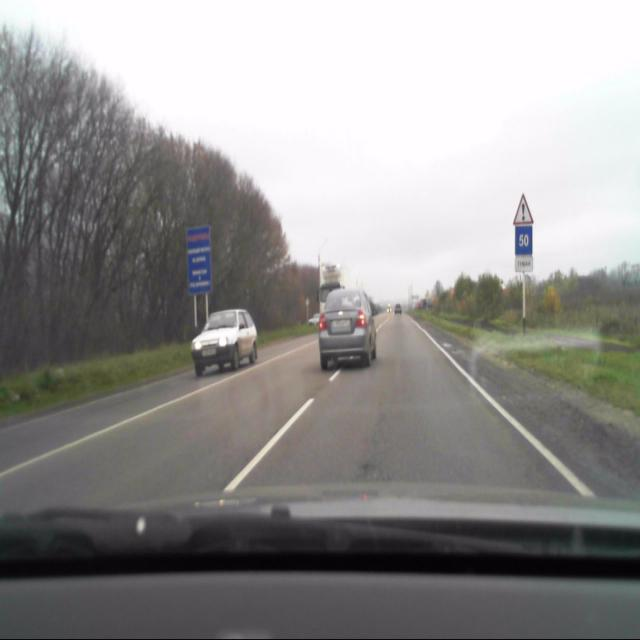road sign: (514, 191, 534, 223), (514, 226, 532, 253)
